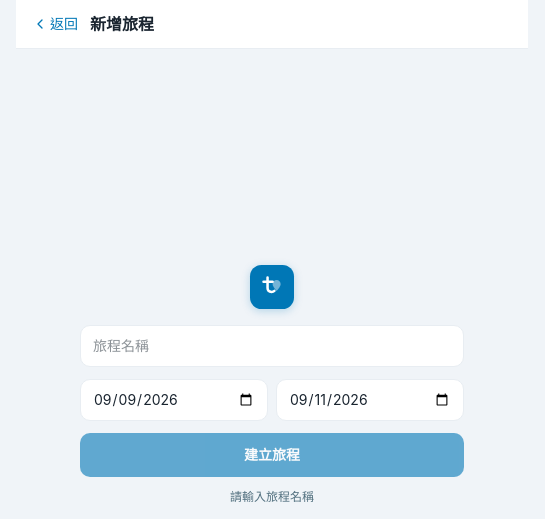
Test: NewTripPage › disables the create button when start date is after end date
Type "東京" into the field with placeholder "旅程名稱". click: (272, 346)
box: [80,324,464,366]
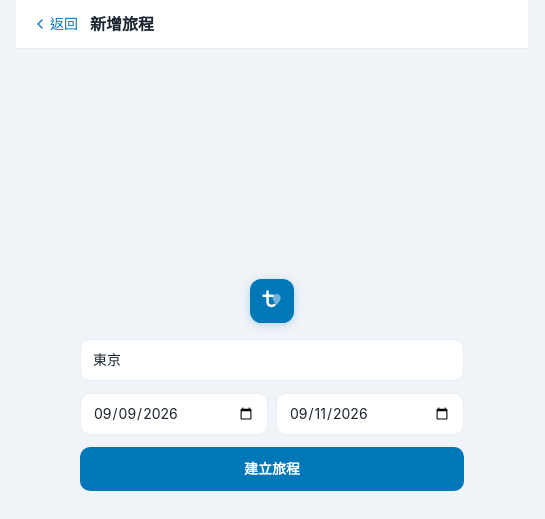
Type "2026-09-05" into the date field named "開始日期". click: (174, 414)
box: [80,392,268,434]
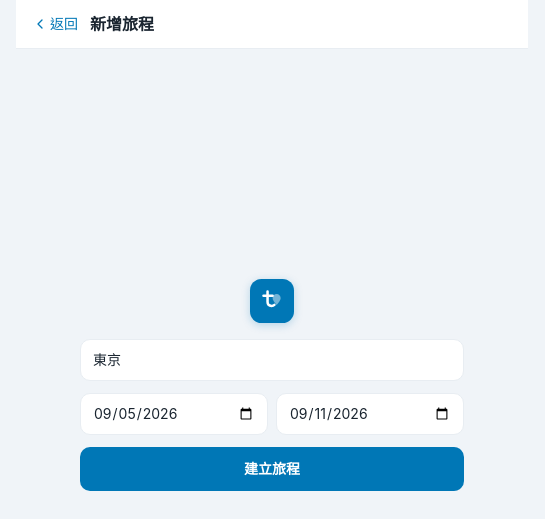
Type "2026-09-03" into the date field named "結束日期". click: (370, 414)
box: [276,392,464,434]
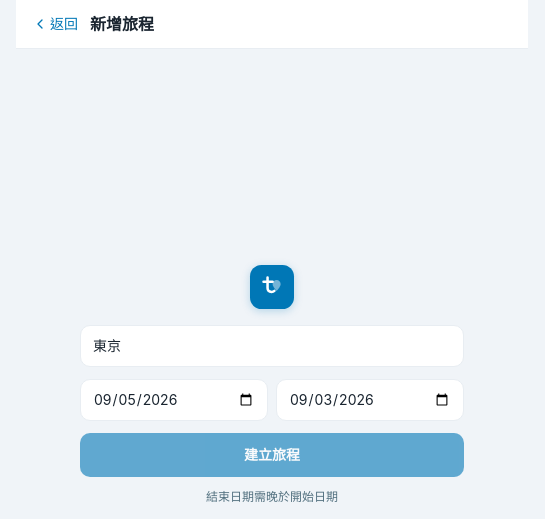
Result: the button "建立旅程" is disabled at [80,432,464,476]
